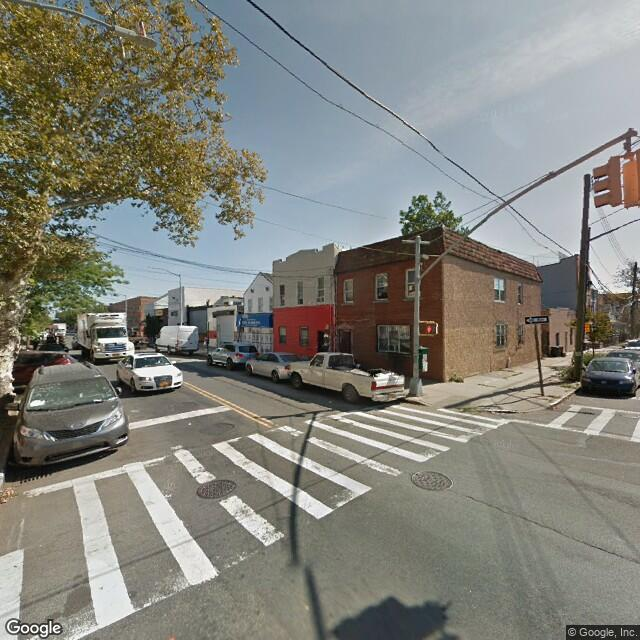litter: (187, 420, 191, 425)
